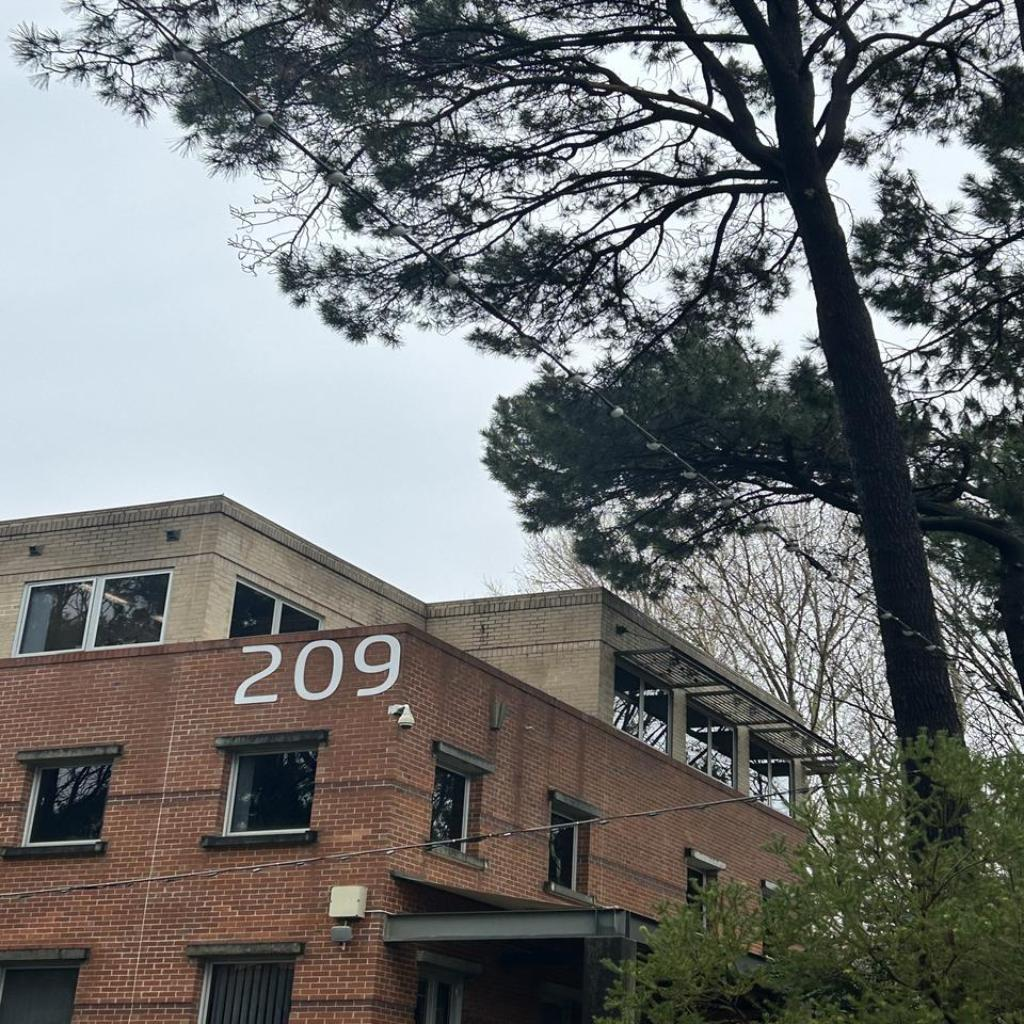BuildingCodes: (230, 630, 408, 708)
